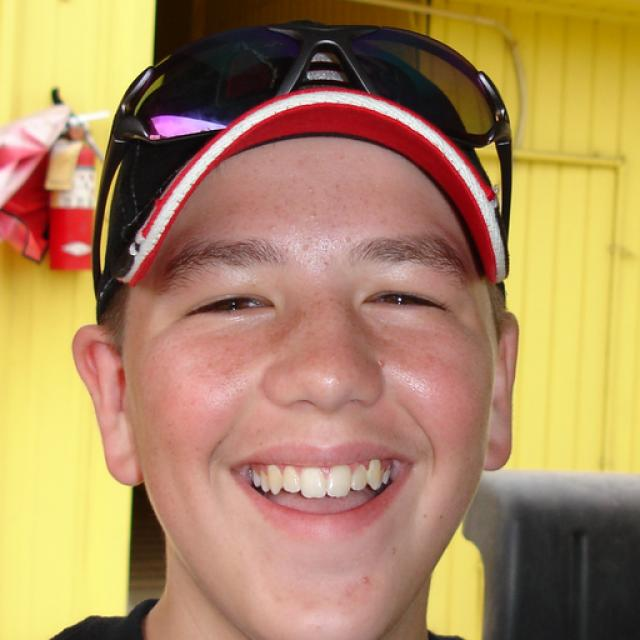Acne: (351, 570, 376, 592), (374, 353, 393, 374), (299, 182, 322, 198), (308, 207, 321, 224), (267, 221, 279, 237)
